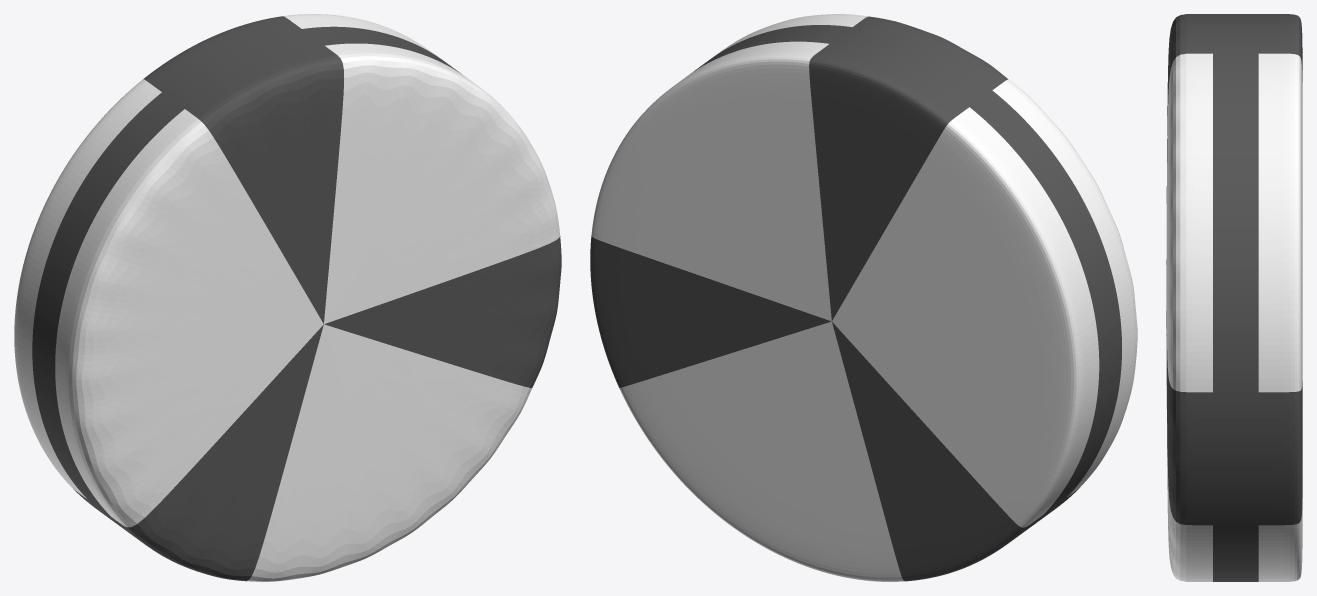
File: power_wheel.dae
The picture shows the model from 3 angles, left to right: view 1: azimuth 30°, elevation 25°; view 2: azimuth 150°, elevation 25°; view 3: azimuth 270°, elevation 25°; orthographic projection.
Visible parts, largest first — view 1: power_wheel.001; view 2: power_wheel.001; view 3: power_wheel.001.
Boxes of the visible parts, bbox=[...] form: power_wheel.001: bbox=[14, 14, 561, 581]; power_wheel.001: bbox=[590, 14, 1137, 581]; power_wheel.001: bbox=[1166, 14, 1302, 581].
Bounding box in the file's own units: 0.25 × 0.06 × 0.25.
Materials: 2 (2 with a texture image).
